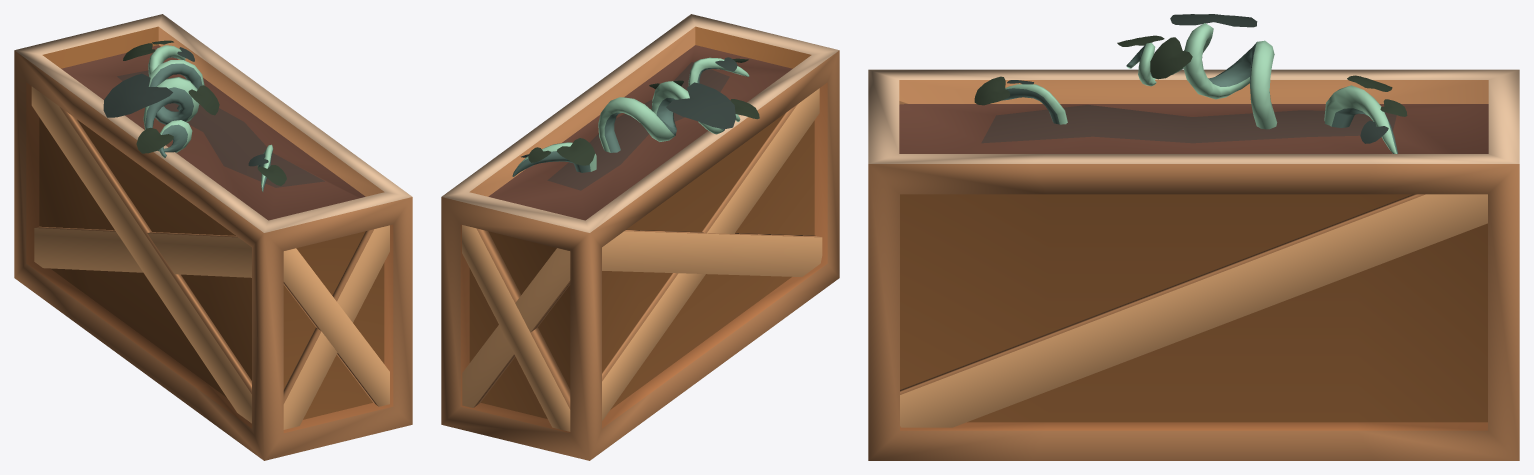
Rendered from Planter.fbx.
3 views of the same model, side by side, from view 1: azimuth 30°, elevation 25°; view 2: azimuth 150°, elevation 25°; view 3: azimuth 270°, elevation 25° (orthographic). The views are drawn at different scales.
Parts seen in each view (by area): view 1: PlanterBox; view 2: PlanterBox; view 3: PlanterBox.
Boxes of the visible parts, <box> form: PlanterBox: <box>14,14,412,460</box>; PlanterBox: <box>441,14,839,460</box>; PlanterBox: <box>868,14,1519,460</box>.
Bounding box in the file's own units: 40.13 × 61.76 × 100.
